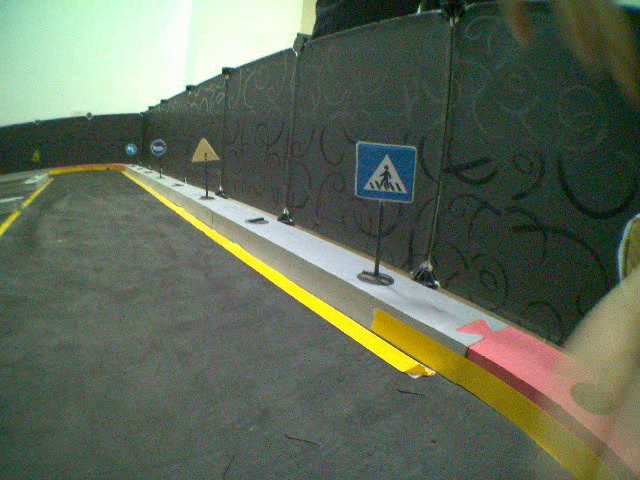crossing: (351, 138, 418, 204)
horn: (149, 137, 167, 157)
turn: (125, 140, 138, 158)
